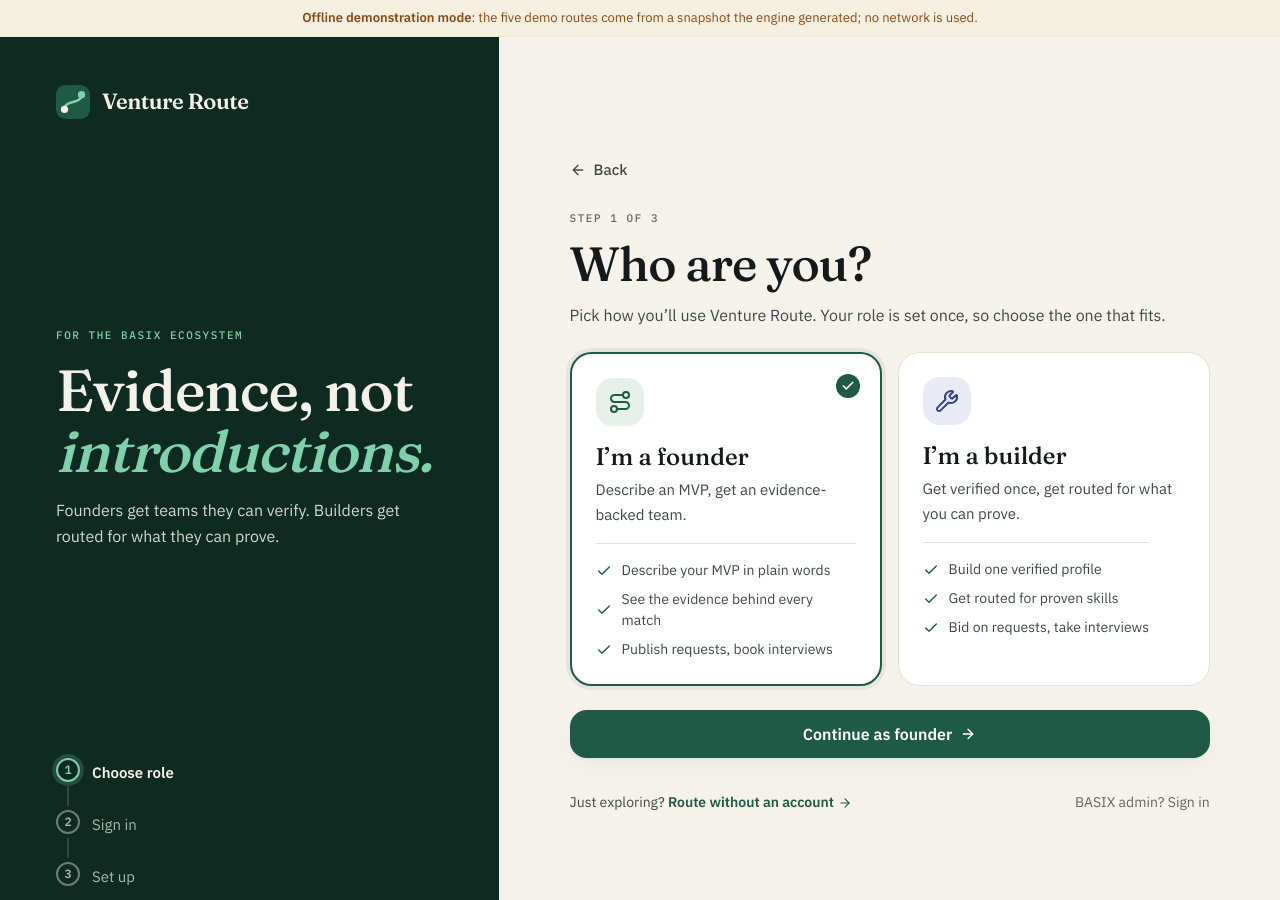
Test case: role first (D-54) › asks who you are before sign-in, remembers the pick and shows it on the sign-up step
The width and height of the screenshot is (1280, 900).
expect the heading "Who are you?" is shown: met, box [570,234,871,294]
Click the button "I’m a builder": (947, 401) [898,352,1210,686]
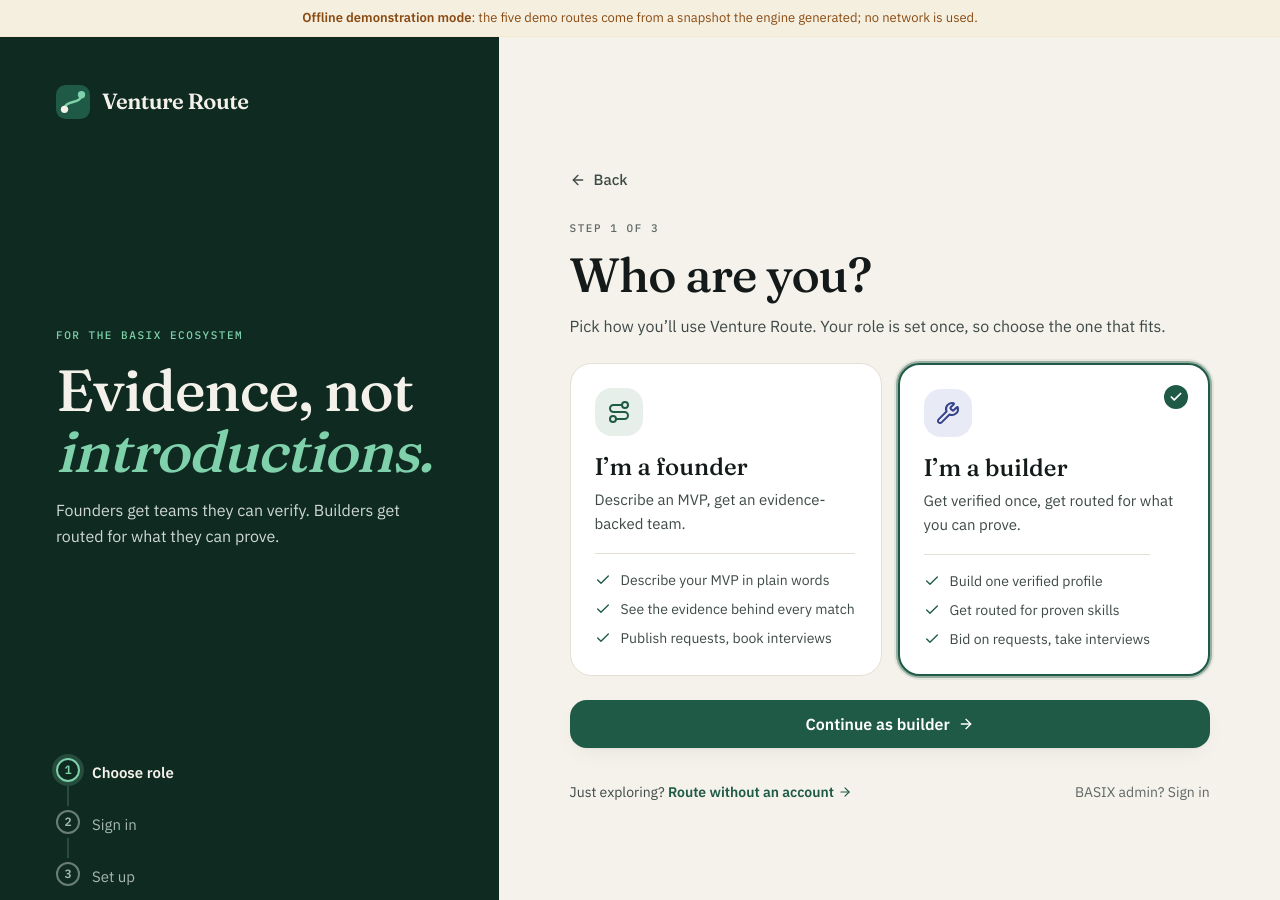
Click the button "Continue as builder": (890, 724) [570,700,1210,748]
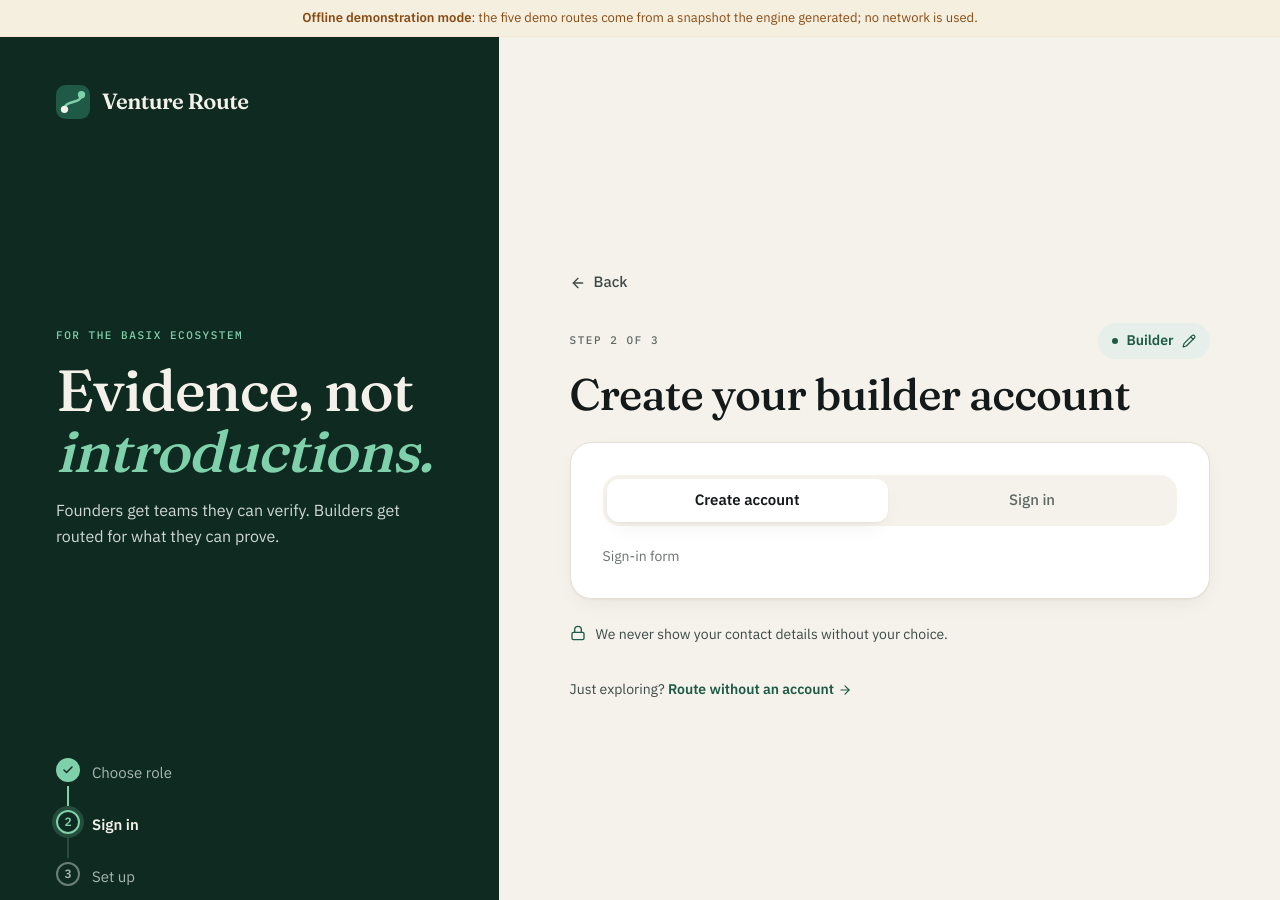
expect the heading "Create your builder account" is shown: met, box [570,371,1210,418]
Click the button with aria-label "Builder: change role": (1154, 341) [1098,323,1210,359]
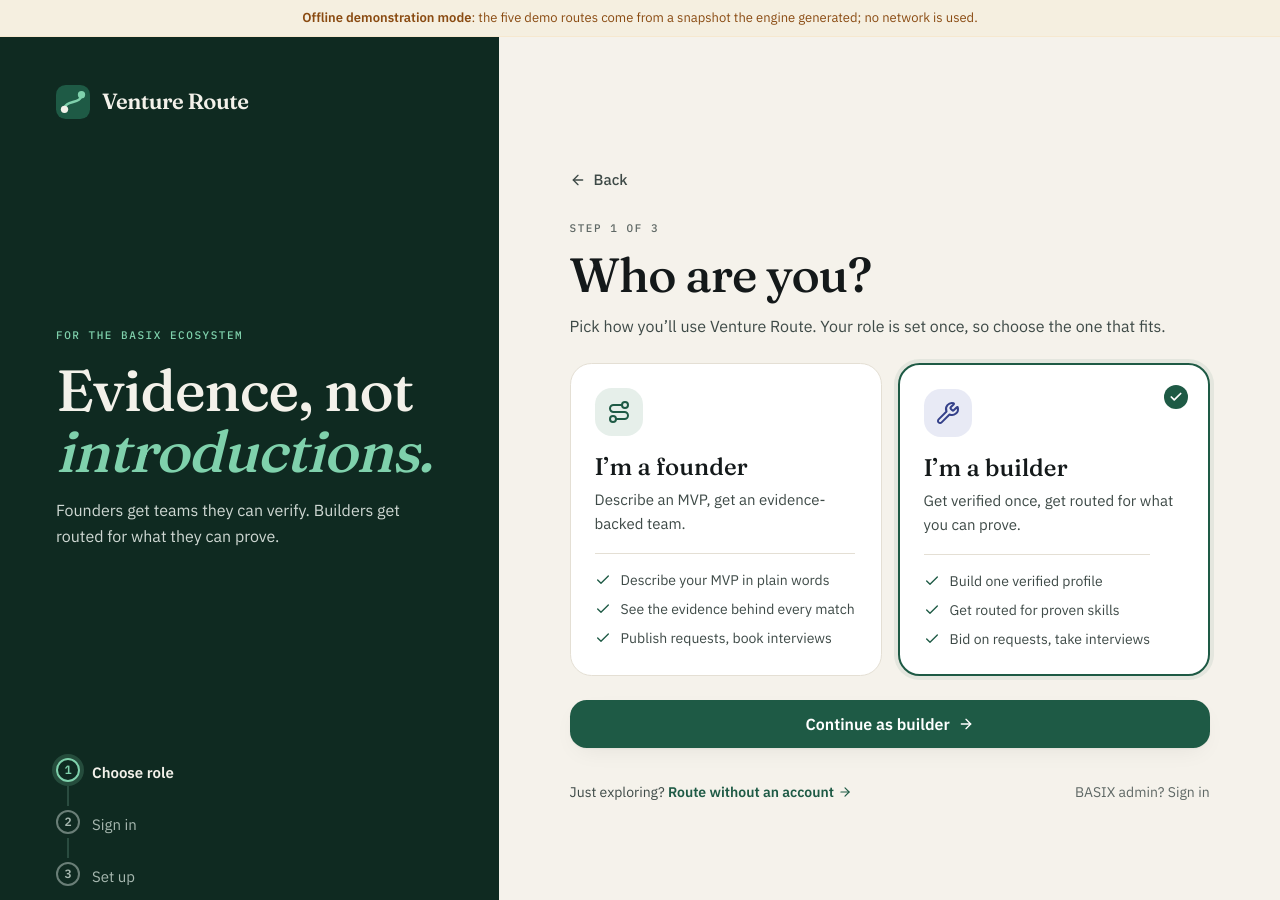
expect the heading "Who are you?" is shown: met, box [570,245,871,304]
